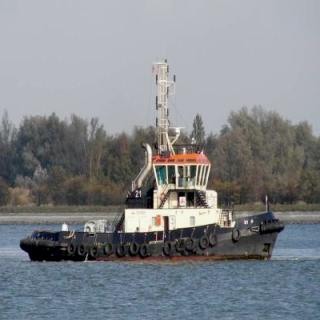Tug Boat: (20, 66, 276, 260)
